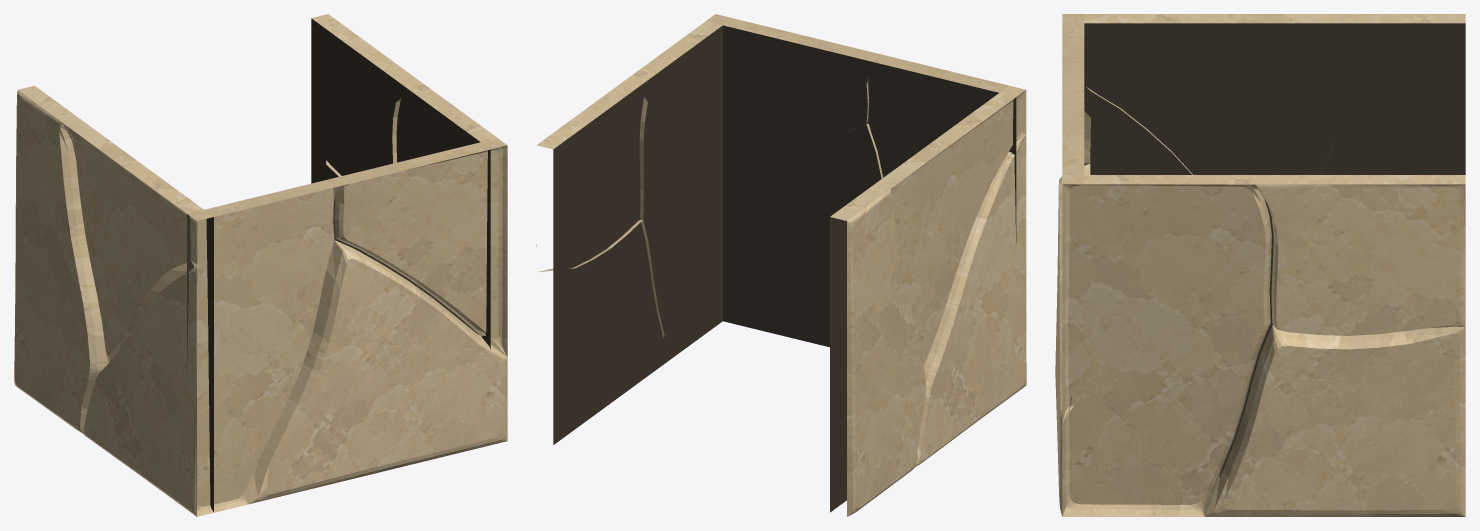
Rendered from ground_end_09.glb.
The picture shows the model from 3 angles, left to right: view 1: azimuth 30°, elevation 25°; view 2: azimuth 150°, elevation 25°; view 3: azimuth 270°, elevation 25°; orthographic projection. The views are drawn at different scales.
Parts seen in each view (by area): view 1: GroundEnd09_Body; view 2: GroundEnd09_Body; view 3: GroundEnd09_Body.
Part boxes in pixels (x1,y1,x2,y2): GroundEnd09_Body: (14,14,507,516); GroundEnd09_Body: (536,14,1026,516); GroundEnd09_Body: (1055,14,1465,516).
Size of the model in its own units: 1.04 by 0.91 by 1.02.
Materials: 11 (10 with a texture image).
